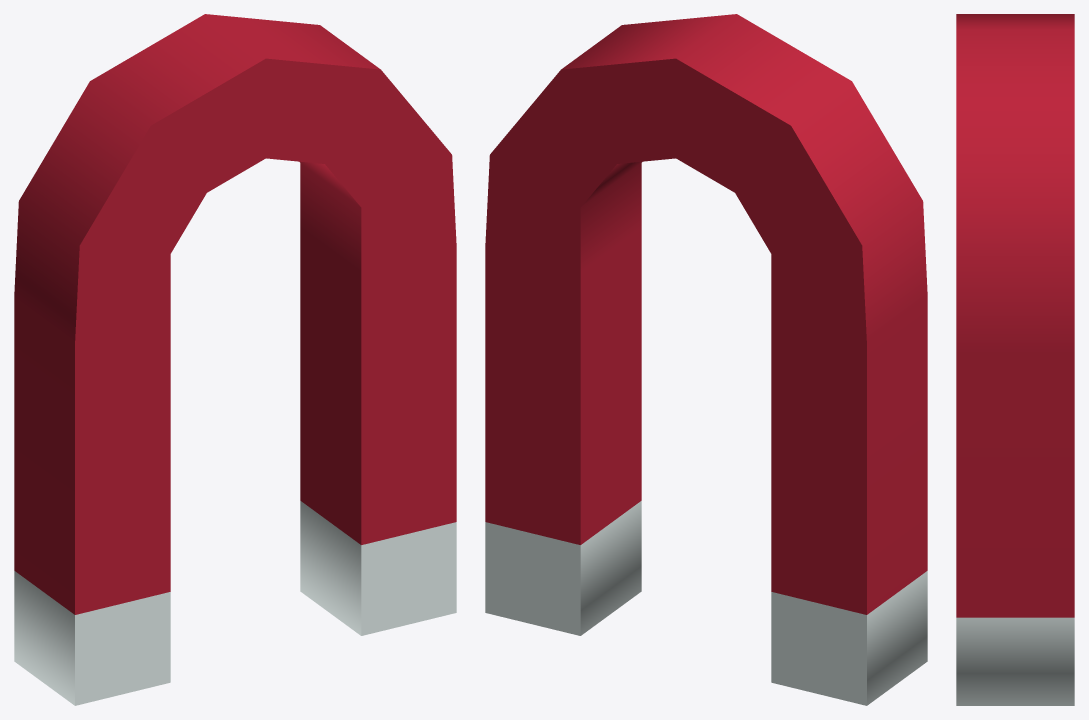
The model's file is magnet.fbx.
The picture shows the model from 3 angles, left to right: view 1: azimuth 30°, elevation 25°; view 2: azimuth 150°, elevation 25°; view 3: azimuth 270°, elevation 25°; orthographic projection. The views are drawn at different scales.
Visible parts, largest first — view 1: magnet; view 2: magnet; view 3: magnet.
Boxes of the visible parts, left/top/right/bottom form: magnet: left=14, top=14, right=456, bottom=705; magnet: left=485, top=14, right=927, bottom=705; magnet: left=956, top=14, right=1074, bottom=705.
Size of the model in its own units: 380 by 572 by 105.
